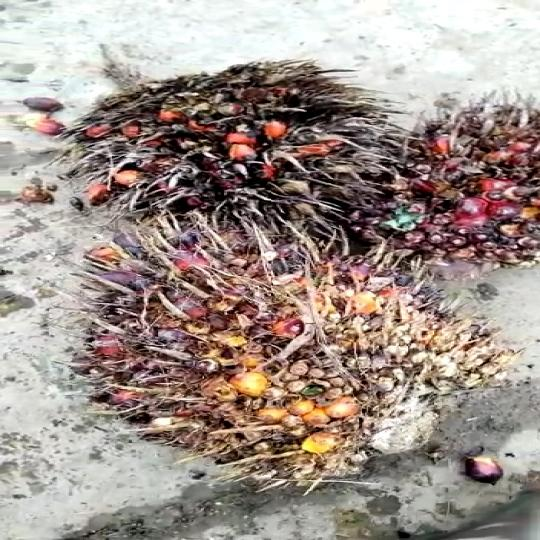terlalu masak: (54, 237, 500, 494), (52, 59, 422, 235), (322, 90, 540, 262)
